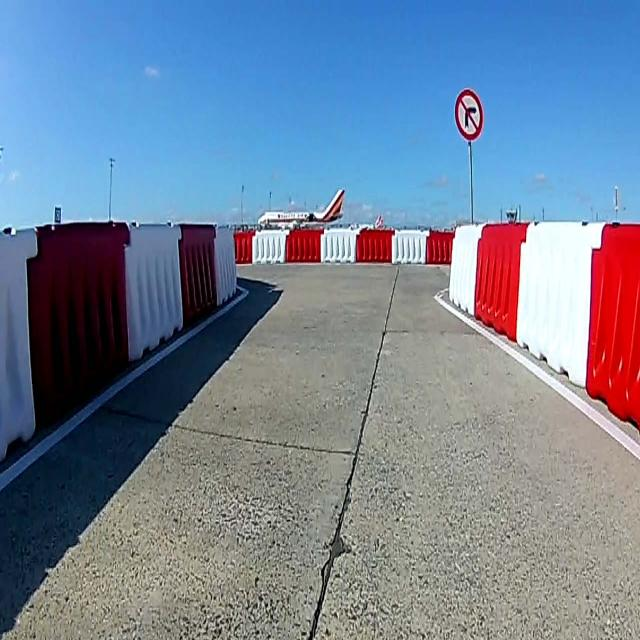sagadonulmez: (454, 88, 484, 140)
